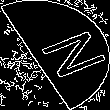N_SW: (14, 26, 96, 84)
